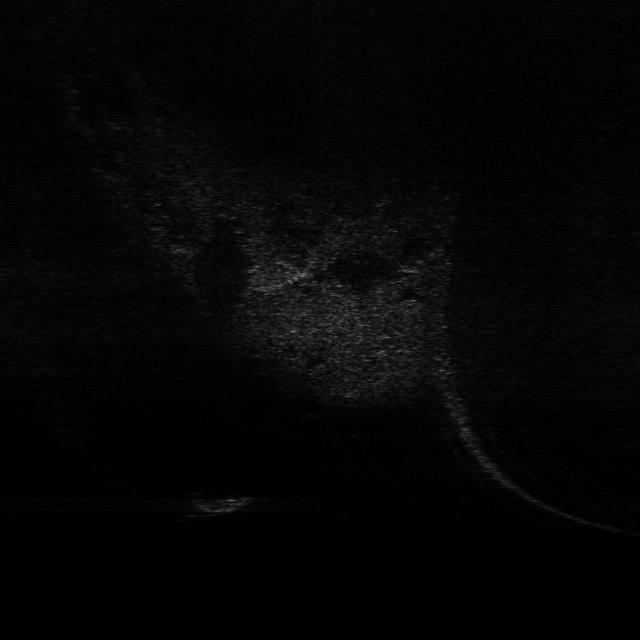cube: (180, 491, 254, 523)
